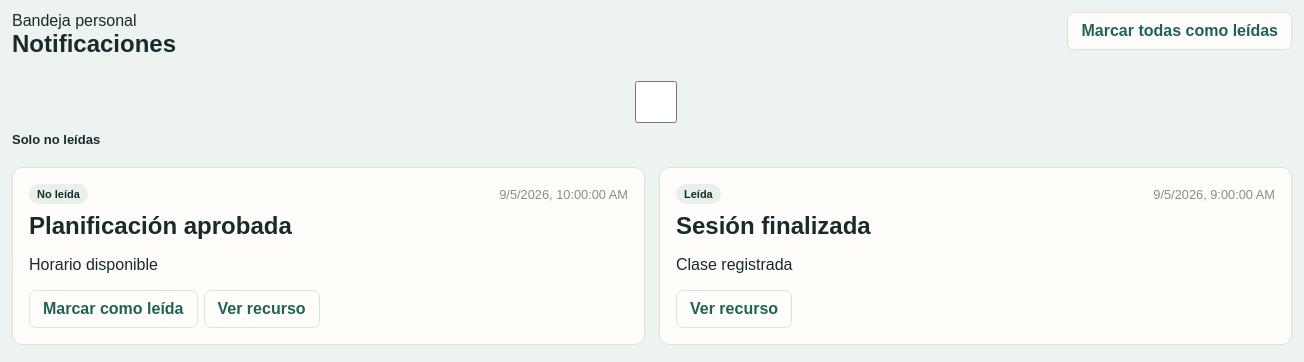
Test: NotificationsPage › permite filtrar solo no leídas
Expected: the heading "Planificación aprobada" is shown, [29,212,292,239]
Click the checkbox labelled "Solo no leídas": (654, 102) [16,81,1292,123]
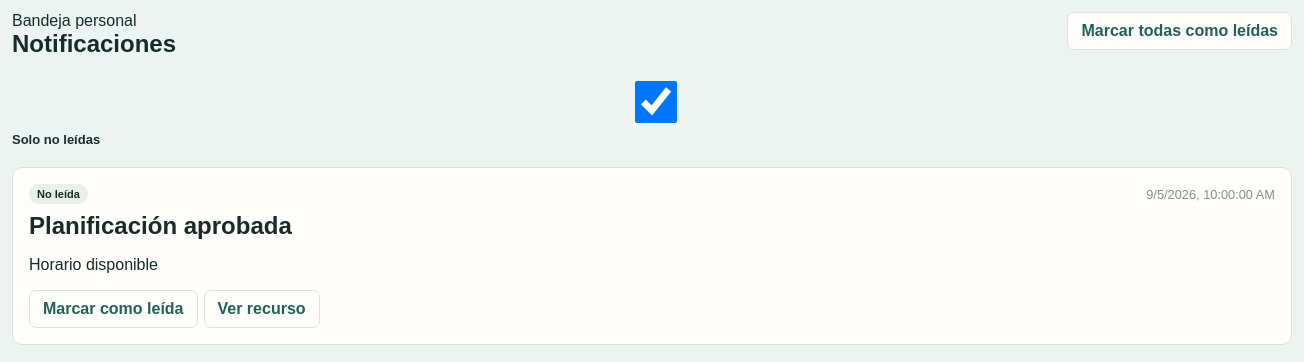
Expected: the heading "Planificación aprobada" is shown, [29,212,292,239]
Expected: the heading "Sesión finalizada" is gone
